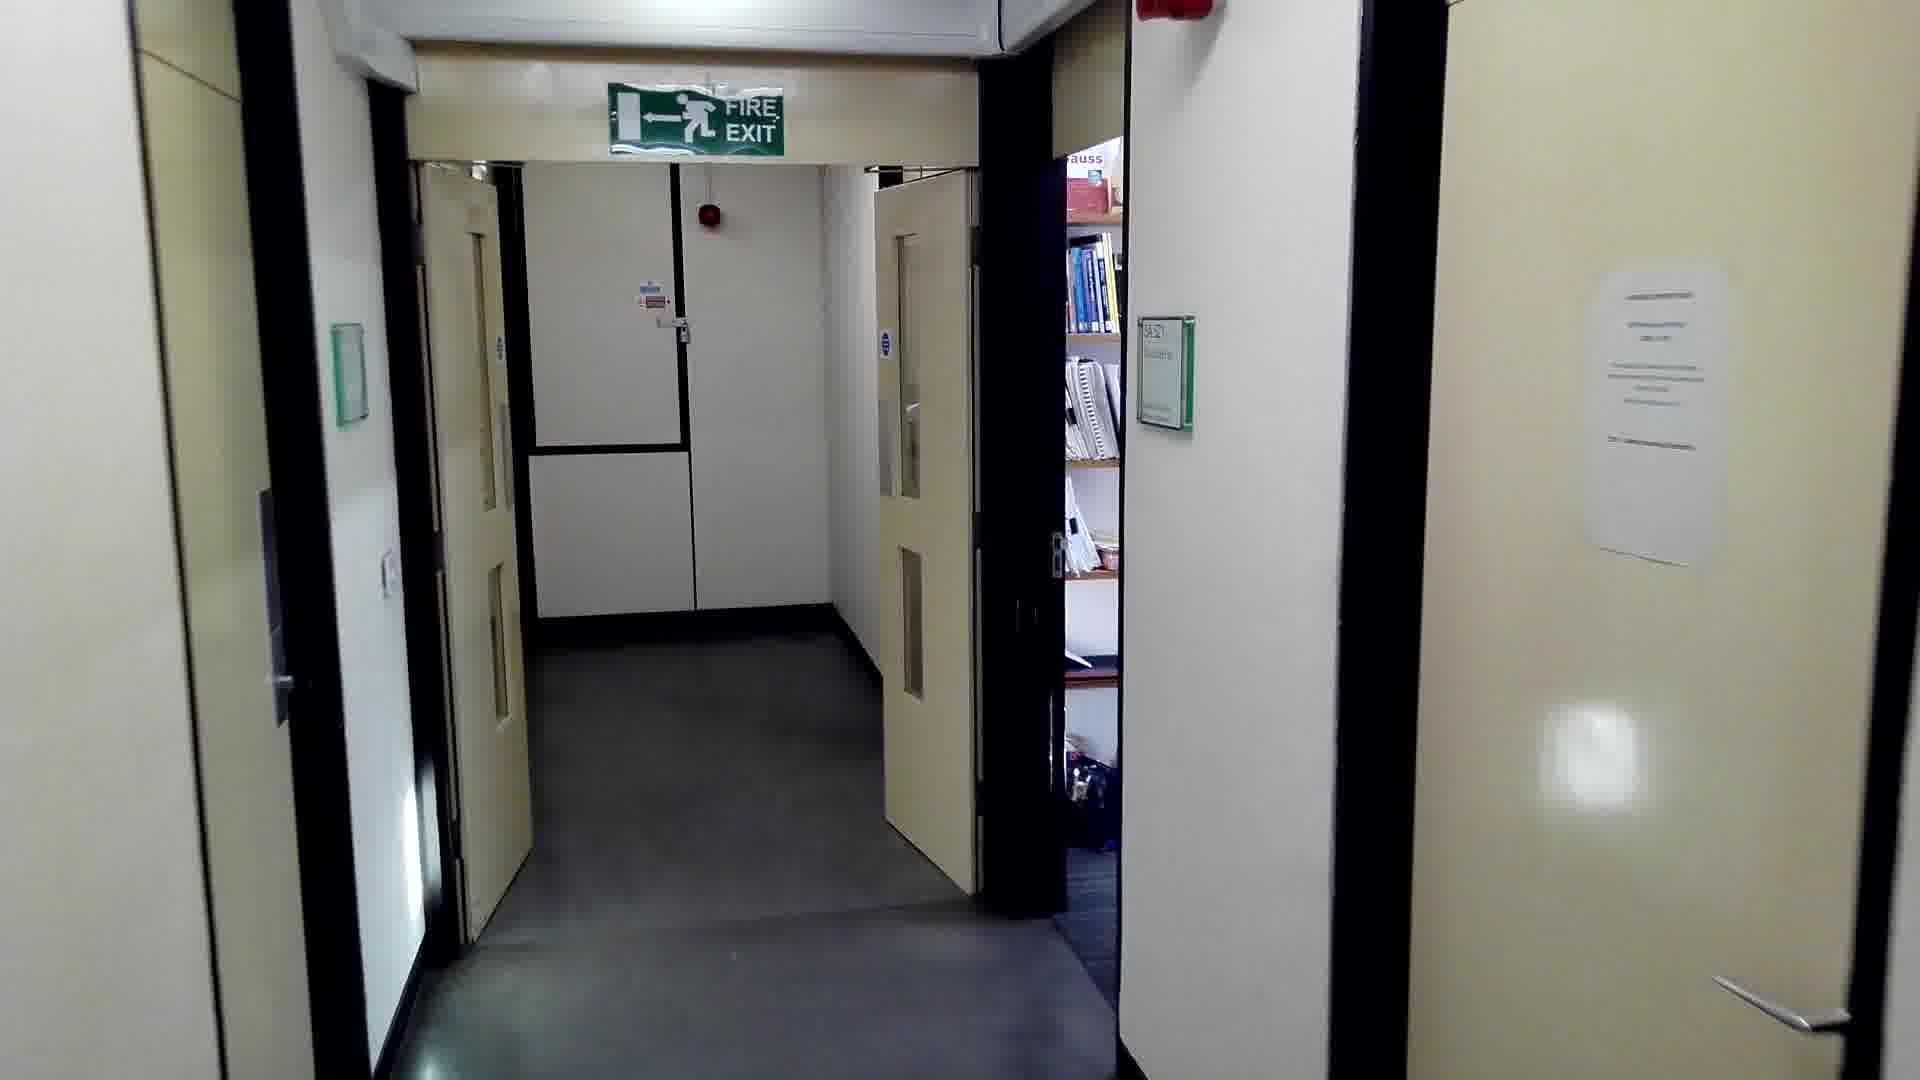Door: (1385, 1, 1920, 1080), (107, 42, 380, 1080), (392, 142, 559, 955), (851, 171, 992, 901)
